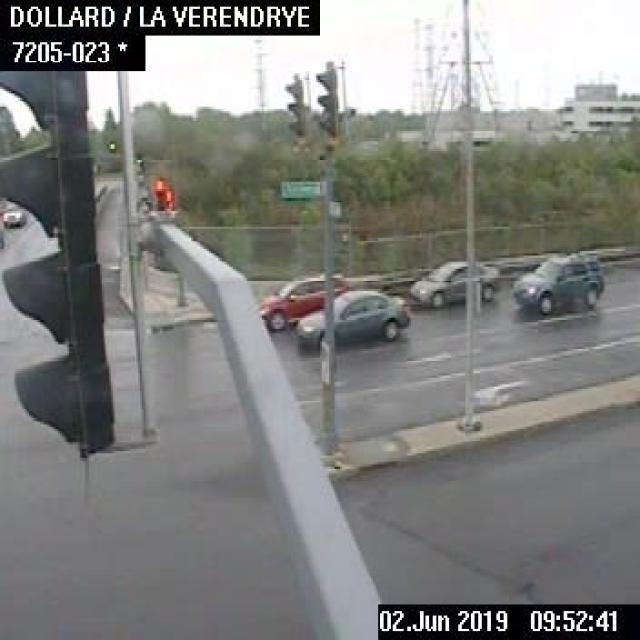vehicle: (293, 289, 410, 351), (507, 249, 604, 313), (258, 271, 350, 331), (408, 258, 498, 309), (0, 199, 27, 224)
